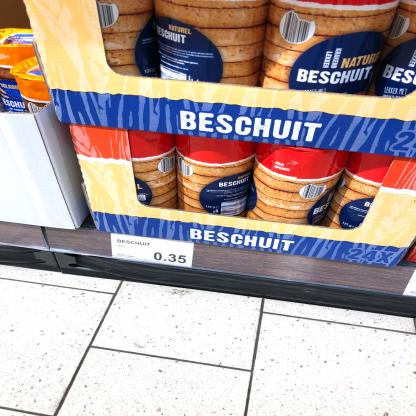prtg: (112, 233, 196, 269)
